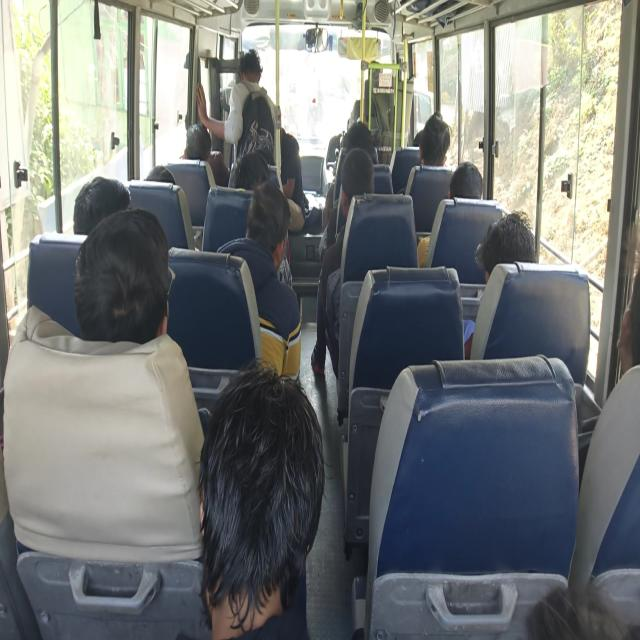person: (193, 402, 318, 598), (478, 220, 596, 356), (90, 231, 184, 366), (602, 247, 640, 416), (244, 180, 298, 264), (73, 175, 127, 250), (336, 143, 378, 214), (420, 112, 463, 179), (452, 154, 497, 218), (233, 46, 269, 95), (227, 154, 268, 193), (142, 148, 171, 197), (344, 120, 380, 157), (408, 127, 436, 168), (177, 128, 206, 166), (256, 143, 283, 170)
